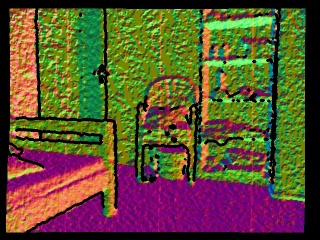station: (209, 66, 229, 101)
